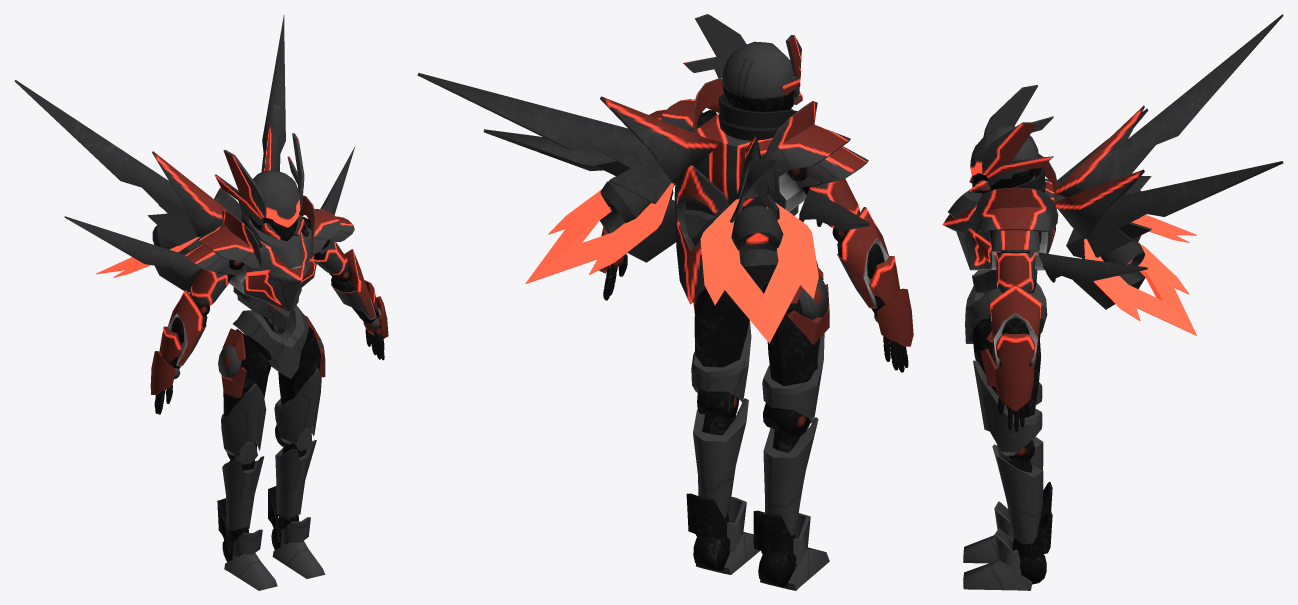
The model's file is Male_7.glb.
3 renders of one model, left to right at view 1: azimuth 30°, elevation 25°; view 2: azimuth 150°, elevation 25°; view 3: azimuth 270°, elevation 25°, orthographic. The views are drawn at different scales.
Parts seen in each view (by area): view 1: M1.1, WM2, H, AM, AMR, AMH1.001, AML, AMH2, NTC, AMM2; view 2: WM2, M1.1, H, AM, AMR, AMH1.001, Object001, AML, AMM2; view 3: WM2, M1.1, H, AML, AM, AMH2, AMM1, NTC.
Boxes of the visible parts, x1,y1,x2,y2 form: M1.1: [150, 216, 388, 590]; WM2: [14, 15, 355, 292]; H: [214, 133, 304, 240]; AM: [229, 227, 316, 311]; AMR: [197, 210, 261, 268]; AMH1.001: [167, 289, 206, 366]; AML: [301, 195, 340, 254]; AMH2: [331, 249, 376, 319]; NTC: [248, 219, 302, 269]; AMM2: [183, 244, 229, 271]; WM2: [417, 73, 869, 343]; M1.1: [599, 110, 913, 590]; H: [683, 14, 802, 111]; AM: [695, 113, 806, 211]; AMR: [763, 101, 850, 177]; AMH1.001: [837, 207, 888, 308]; Object001: [718, 94, 797, 140]; AML: [660, 78, 723, 133]; AMM2: [807, 146, 868, 183]; WM2: [1038, 14, 1283, 335]; M1.1: [963, 231, 1052, 590]; H: [969, 85, 1053, 193]; AML: [975, 187, 1058, 232]; AM: [942, 178, 1055, 270]; AMH2: [989, 284, 1041, 367]; AMM1: [991, 230, 1039, 251]; NTC: [948, 176, 1035, 218].
Size of the model in its own units: 3.77 by 5.34 by 3.41.
3 materials, 3 textured.
